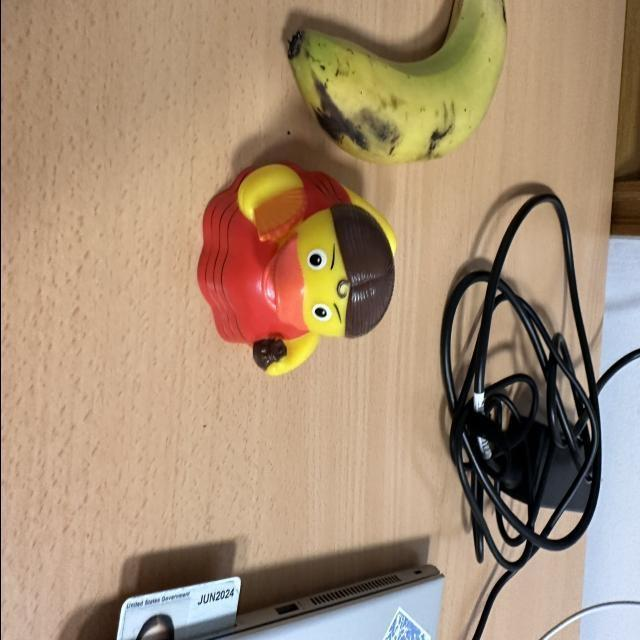rubber-duck: (197, 163, 393, 373)
